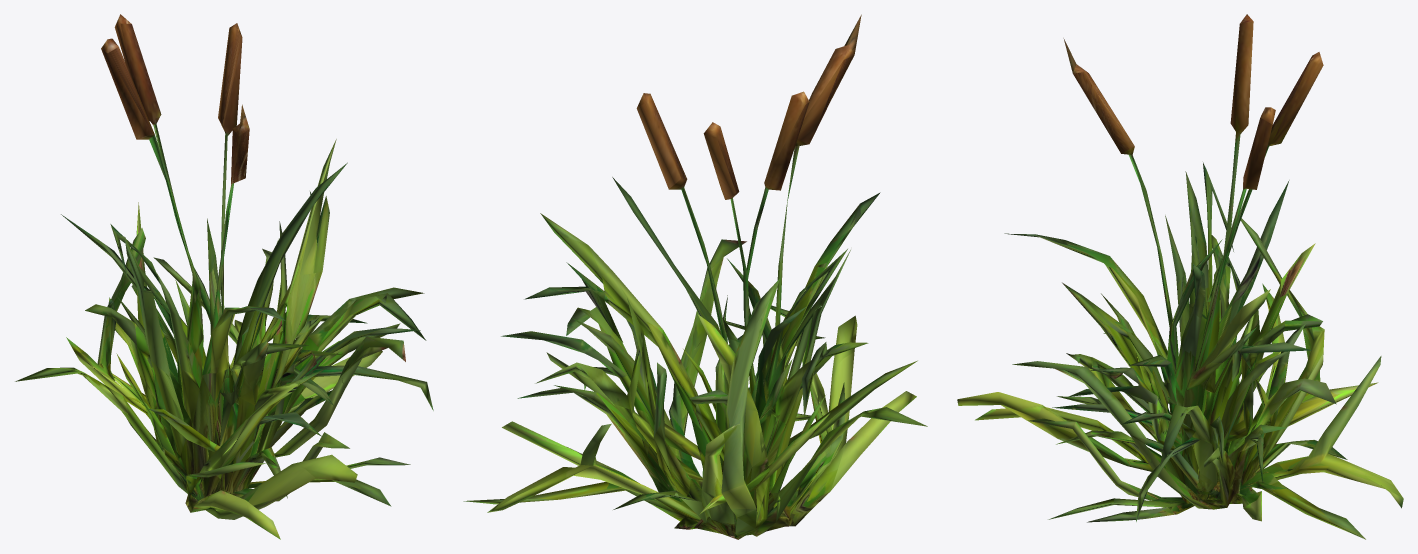
File: reeds.glb
3 views of the same model, side by side, from view 1: azimuth 30°, elevation 25°; view 2: azimuth 150°, elevation 25°; view 3: azimuth 270°, elevation 25° (orthographic). The views are drawn at different scales.
Visible parts, largest first — view 1: FROG_runtime_reeds; view 2: FROG_runtime_reeds; view 3: FROG_runtime_reeds.
Part boxes in pixels (x1,y1,x2,y2): FROG_runtime_reeds: [15, 14, 433, 539]; FROG_runtime_reeds: [463, 14, 927, 539]; FROG_runtime_reeds: [957, 14, 1403, 539].
Bounding box in the file's own units: 1.58 × 1.7 × 1.53.
Materials: 1 (1 with a texture image).
